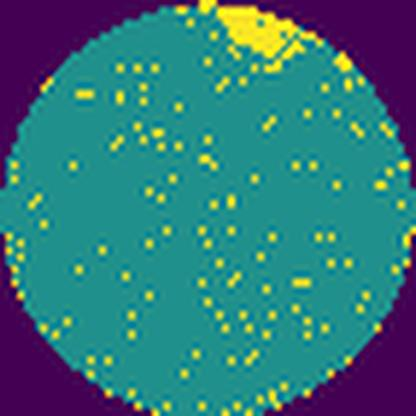Edge-Loc: (191, 0, 329, 78)
